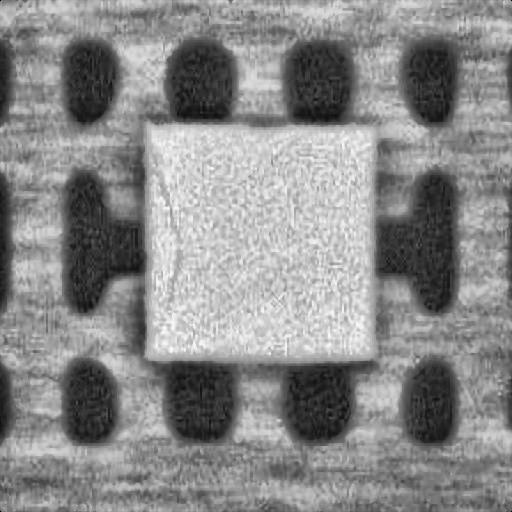DIE_CRACK: (145, 135, 181, 340)
